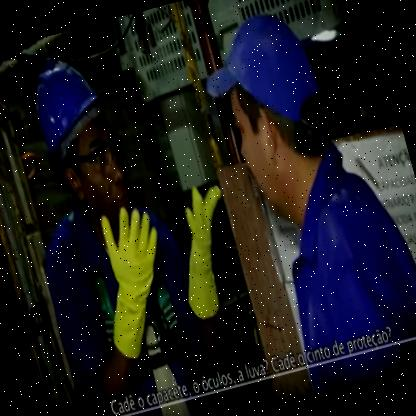capacete: (20, 42, 145, 242)
sem_capacete: (187, 0, 353, 237)
sem_colete_refletivo: (26, 178, 234, 415), (249, 127, 415, 396)
